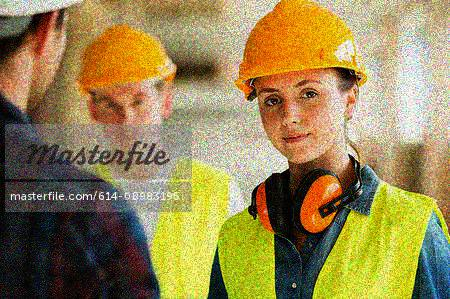helmet: (235, 1, 368, 164), (76, 25, 180, 148), (1, 1, 83, 117)
